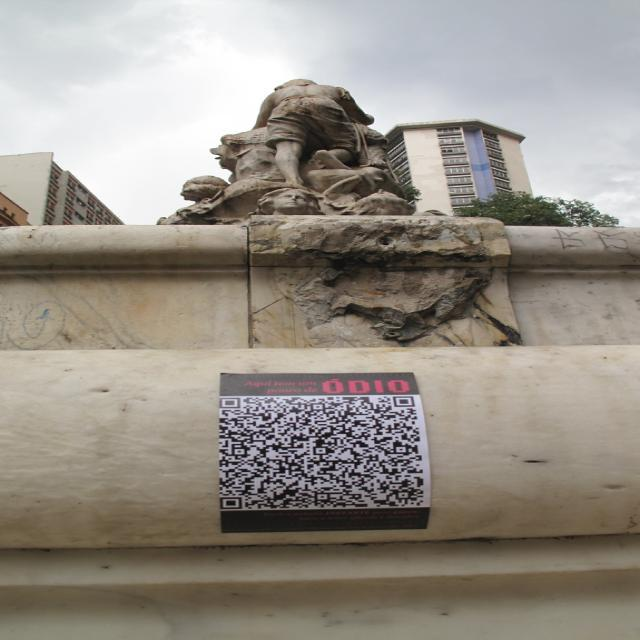qr-code: (219, 396, 423, 508)
